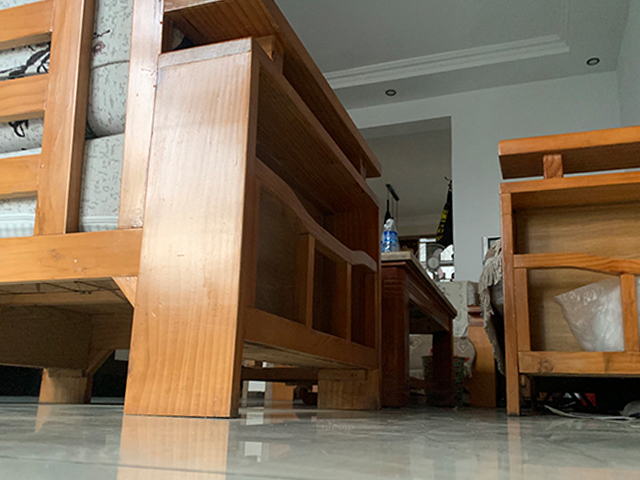sofa: (1, 1, 383, 417), (475, 124, 640, 418)
table: (383, 250, 458, 408)
